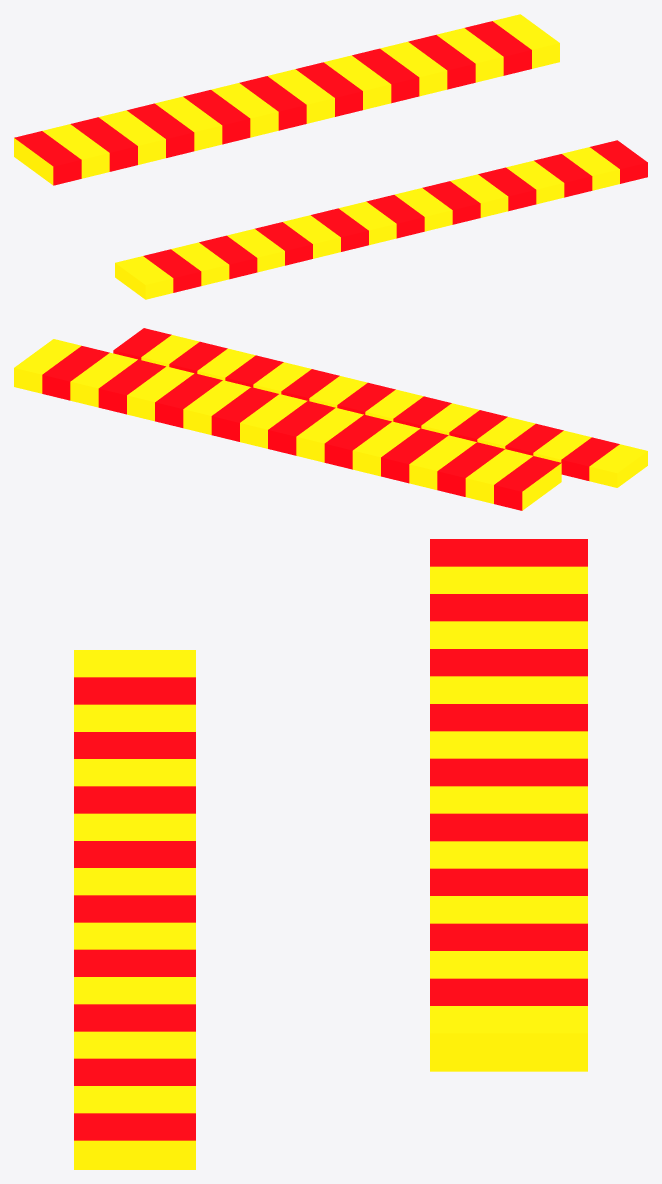
Rendered from Platforms_v.1.fbx.
The picture shows the model from 3 angles, top to bottom: view 1: azimuth 30°, elevation 25°; view 2: azimuth 150°, elevation 25°; view 3: azimuth 270°, elevation 25°; orthographic projection. The views are drawn at different scales.
Parts seen in each view (by area): view 1: Cube.004, Cube.003; view 2: Cube.004, Cube.003; view 3: Cube.004, Cube.003.
Boxes of the visible parts, box(x1,y1,x2,y2) form: Cube.004: box(14, 14, 559, 185); Cube.003: box(115, 140, 647, 299); Cube.004: box(14, 339, 561, 510); Cube.003: box(113, 328, 647, 487); Cube.004: box(430, 539, 587, 1071); Cube.003: box(74, 650, 195, 1169).
Bounding box in the file's own units: 1698 × 220 × 746.
